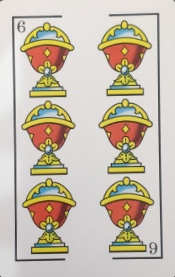6c: (11, 11, 160, 34)
